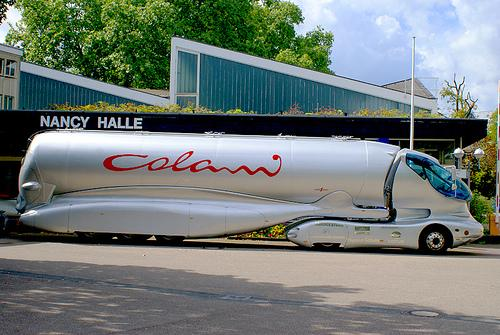truck: (0, 109, 485, 256)
